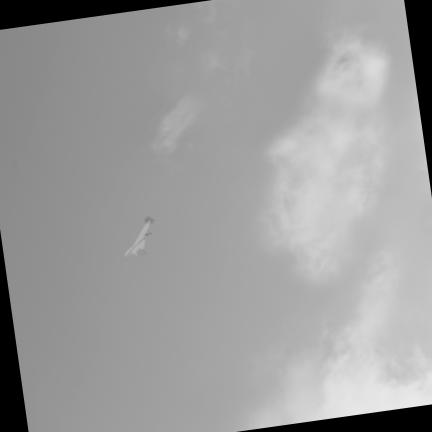Shahed: (125, 215, 154, 255)
